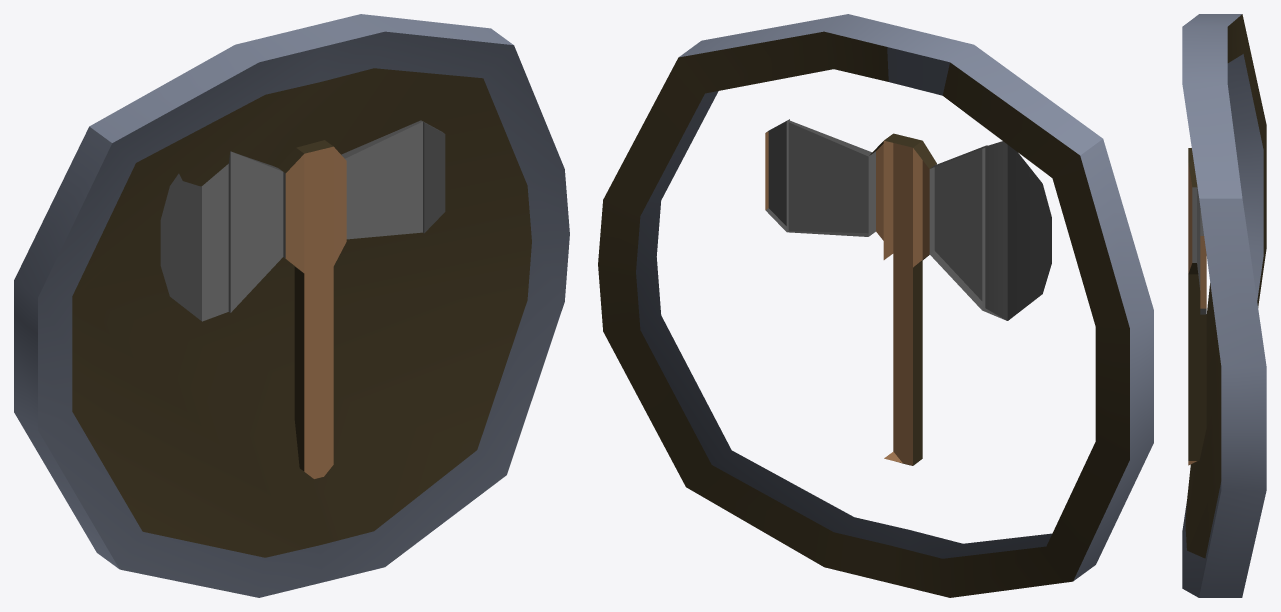
File: Shield 1.FBX
3 views of the same model, side by side, from view 1: azimuth 30°, elevation 25°; view 2: azimuth 150°, elevation 25°; view 3: azimuth 270°, elevation 25° (orthographic). The views are drawn at different scales.
Parts seen in each view (by area): view 1: Shield, Axe; view 2: Shield, Axe; view 3: Shield, Axe.
Part boxes in pixels (box(x1,y1,x2,y2)): Shield: box(14, 14, 569, 597); Axe: box(160, 120, 445, 478); Shield: box(598, 14, 1153, 597); Axe: box(765, 119, 1051, 465); Shield: box(1182, 14, 1266, 597); Axe: box(1188, 148, 1206, 465).
Size of the model in its own units: 326 by 314 by 47.45.
